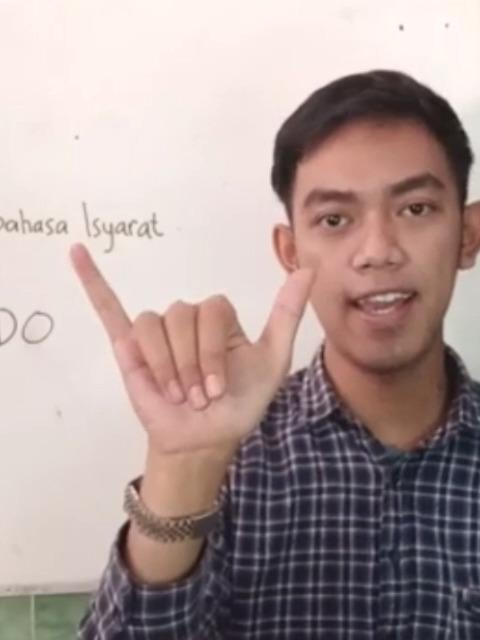Y: (63, 237, 327, 461)
